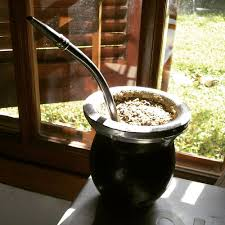mate: (84, 85, 190, 205)
